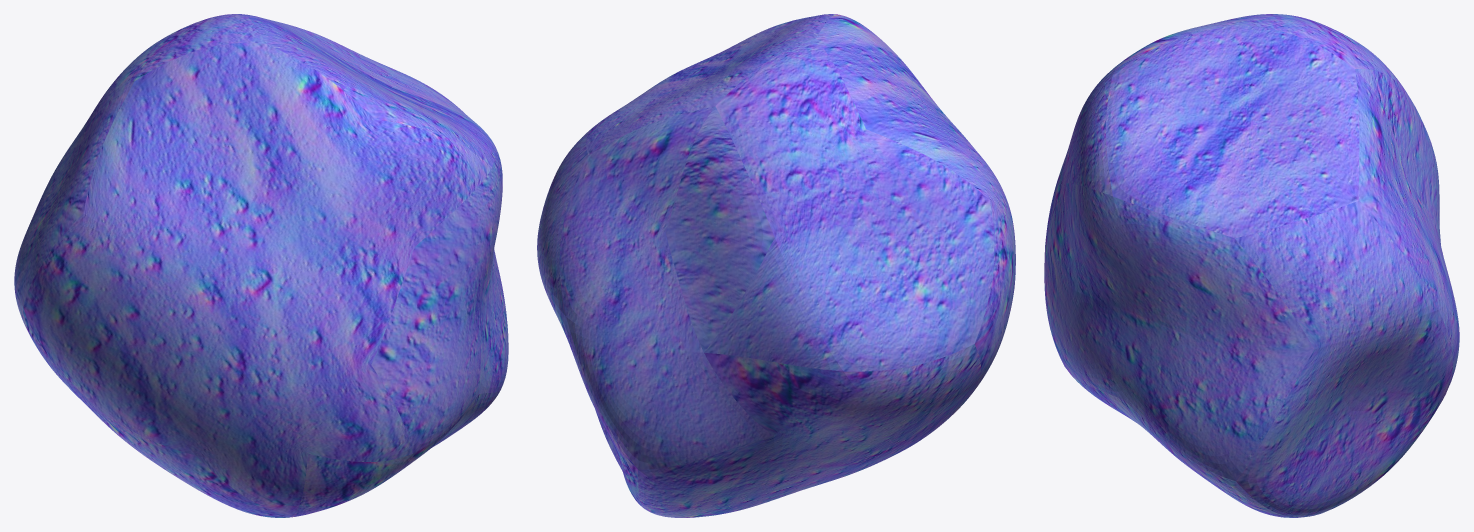
File: bigasteroid11_LOD0.fbx
The picture shows the model from 3 angles, left to right: view 1: azimuth 30°, elevation 25°; view 2: azimuth 150°, elevation 25°; view 3: azimuth 270°, elevation 25°; orthographic projection. The views are drawn at different scales.
Visible parts, largest first — view 1: Icosphere; view 2: Icosphere; view 3: Icosphere.
Part boxes in pixels (box(x1,y1,x2,y2)): Icosphere: box(14, 14, 508, 517); Icosphere: box(537, 14, 1015, 517); Icosphere: box(1044, 14, 1459, 517).
Bounding box in the file's own units: 237 × 243 × 208.
